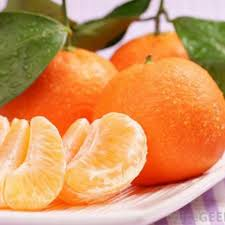orange: (96, 61, 224, 181), (2, 41, 116, 149)
